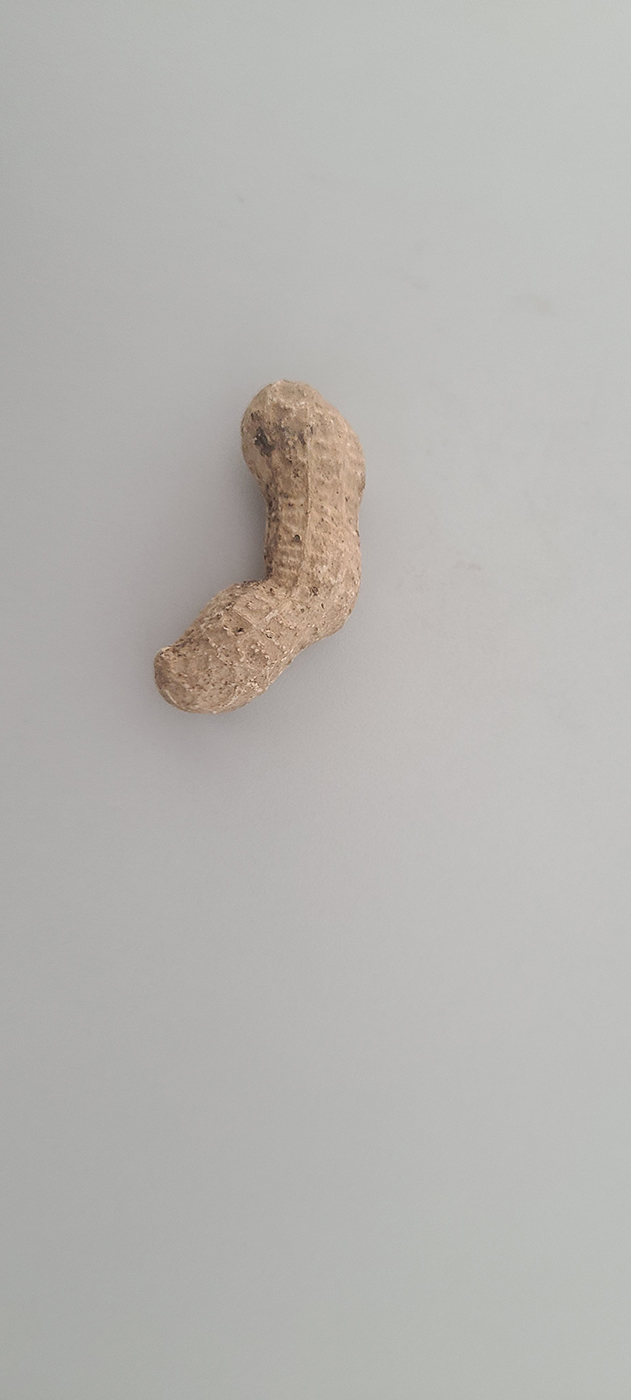h: (157, 378, 367, 718)
